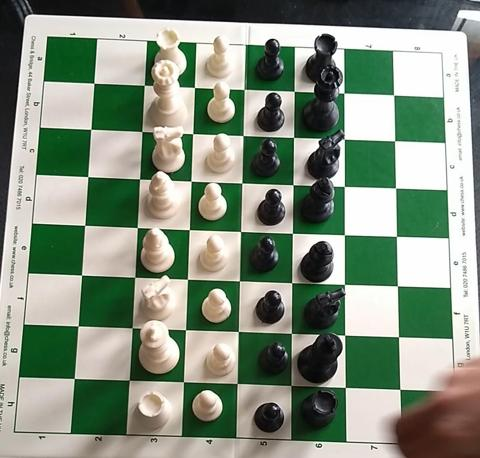xcorner: (243, 89, 261, 107), (193, 87, 211, 105), (143, 85, 161, 103), (138, 178, 156, 196), (292, 232, 310, 250), (240, 230, 258, 248), (188, 228, 206, 246), (397, 285, 415, 303), (186, 278, 204, 296), (133, 276, 151, 294), (80, 274, 98, 292), (398, 336, 416, 354), (238, 331, 256, 349), (184, 329, 202, 347), (345, 387, 363, 405), (291, 385, 309, 403), (182, 382, 200, 400), (73, 378, 91, 396), (293, 91, 311, 108), (93, 83, 110, 101), (394, 140, 411, 158), (343, 139, 361, 156), (242, 135, 260, 152), (191, 133, 209, 150), (395, 187, 412, 205), (241, 182, 259, 199), (87, 176, 104, 194), (344, 234, 362, 251), (136, 226, 153, 244), (83, 225, 101, 242), (345, 283, 362, 301), (239, 280, 257, 297), (345, 335, 363, 352), (131, 327, 148, 345), (399, 389, 417, 406), (128, 380, 145, 398), (393, 95, 410, 112), (343, 93, 360, 110), (293, 137, 310, 154), (141, 131, 158, 148), (90, 129, 107, 146), (344, 186, 361, 203), (293, 184, 310, 201), (190, 180, 207, 197), (396, 236, 413, 253), (292, 282, 309, 299), (292, 333, 309, 350), (77, 326, 94, 343), (237, 384, 254, 401)
